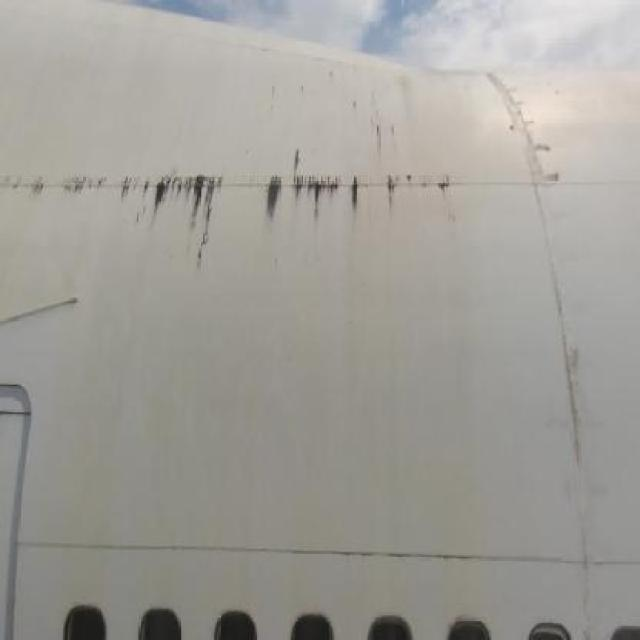Rust: (52, 159, 476, 263), (294, 63, 426, 165)
Scartch: (537, 203, 597, 500), (484, 71, 562, 186)
